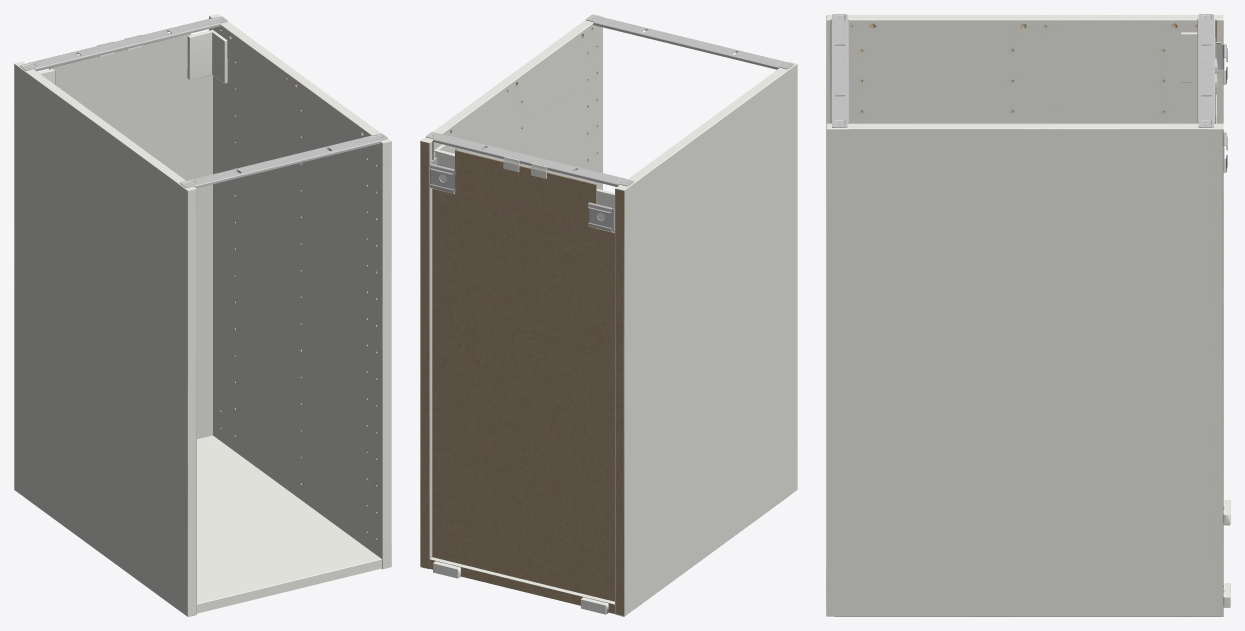
The model's file is Metod39537986.glb.
3 renders of one model, left to right at view 1: azimuth 30°, elevation 25°; view 2: azimuth 150°, elevation 25°; view 3: azimuth 270°, elevation 25°, orthographic. The views are drawn at different scales.
Visible parts, largest first — view 1: model; view 2: model; view 3: model.
Part boxes in pixels (x1,y1,x2,y2): model: (14, 14, 391, 616); model: (420, 14, 797, 616); model: (826, 14, 1230, 616).
Size of the model in its own units: 0.4 by 0.802 by 0.5999.
Materials: 1 (1 with a texture image).
